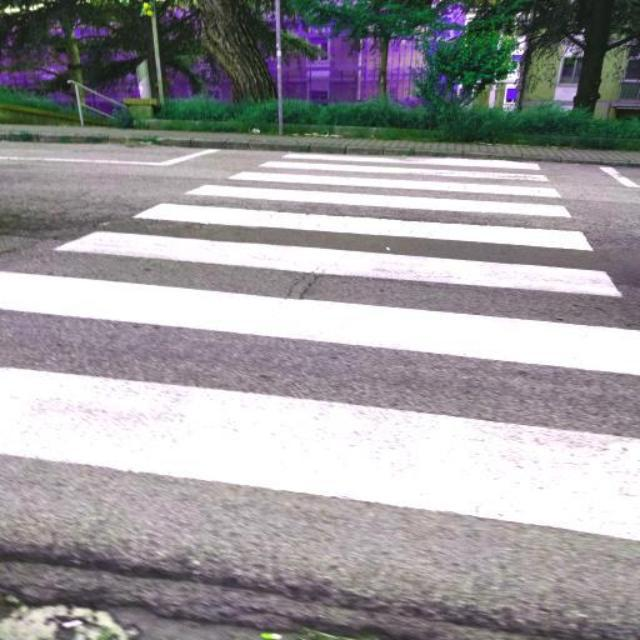sidewalk: (0, 146, 640, 640)
